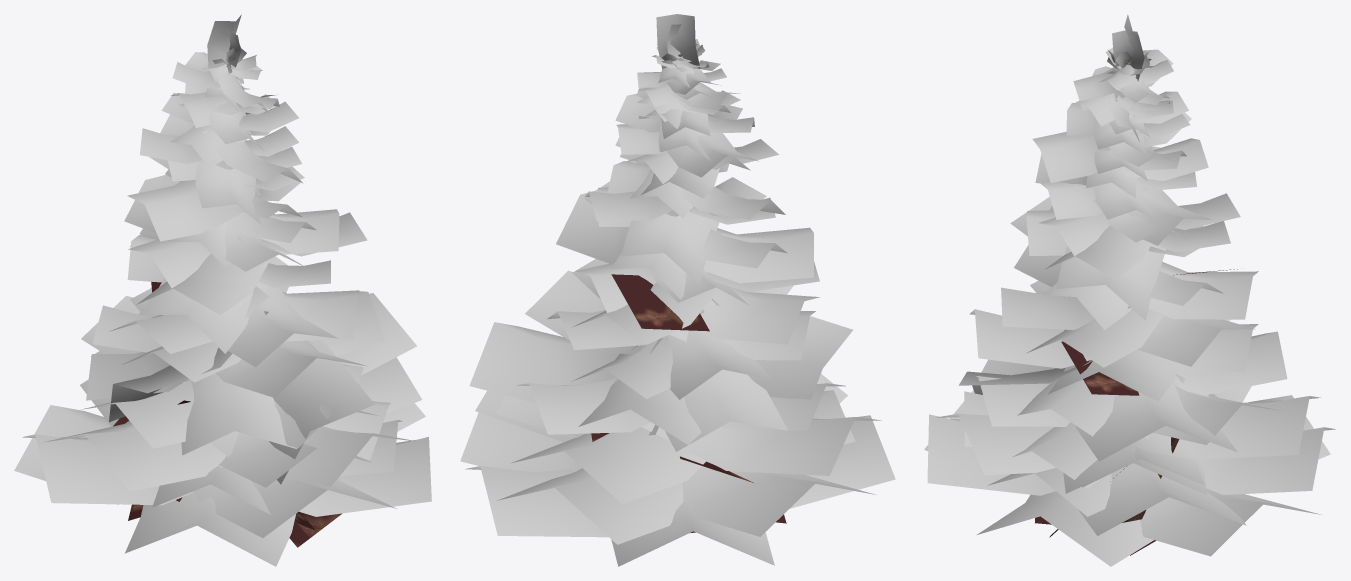
Rendered from pine_tree_snowy.dae.
3 renders of one model, left to right at view 1: azimuth 30°, elevation 25°; view 2: azimuth 150°, elevation 25°; view 3: azimuth 270°, elevation 25°, orthographic. The views are drawn at different scales.
Parts seen in each view (by area): view 1: Leaves, Branches; view 2: Leaves, Branches; view 3: Leaves, Branches.
Part boxes in pixels (x1=…): Leaves: x1=14, y1=14, x2=431, y2=566; Branches: x1=113, y1=281, x2=342, y2=547; Leaves: x1=460, y1=14, x2=895, y2=566; Branches: x1=591, y1=274, x2=786, y2=533; Leaves: x1=924, y1=14, x2=1335, y2=566; Branches: x1=1035, y1=269, x2=1237, y2=555.
Size of the model in its own units: 340 by 442 by 329.
